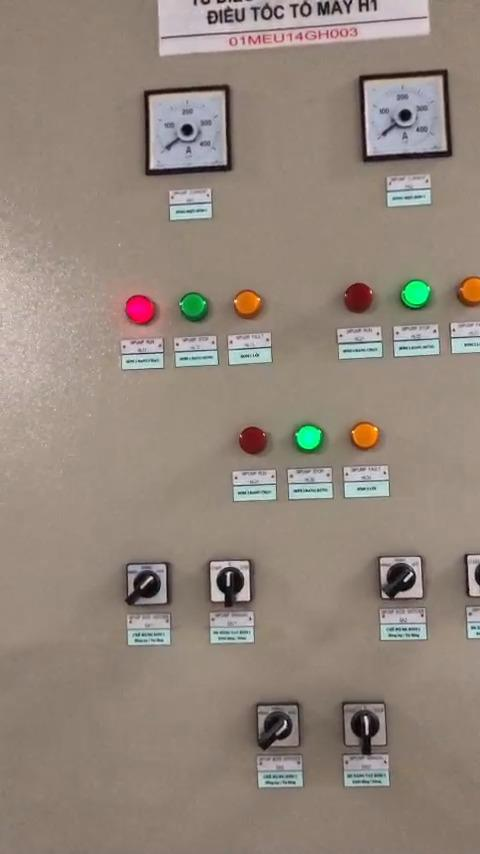led: (395, 279, 431, 314), (342, 281, 378, 316), (175, 290, 211, 325), (236, 424, 271, 459), (350, 420, 384, 455), (292, 420, 325, 456), (122, 294, 159, 326), (234, 288, 265, 320), (450, 275, 480, 308)
twist: (205, 558, 255, 609), (375, 550, 424, 602), (340, 699, 386, 754), (124, 561, 172, 613), (252, 701, 299, 751), (457, 549, 480, 600)
